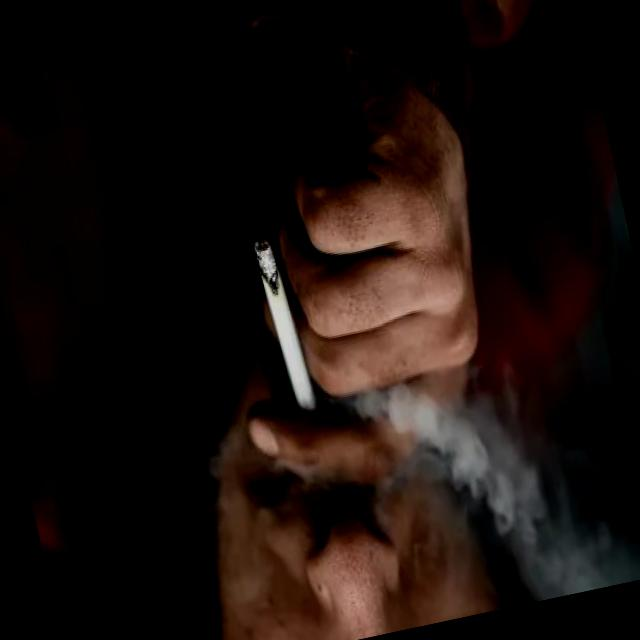cigarette: (247, 230, 326, 420)
